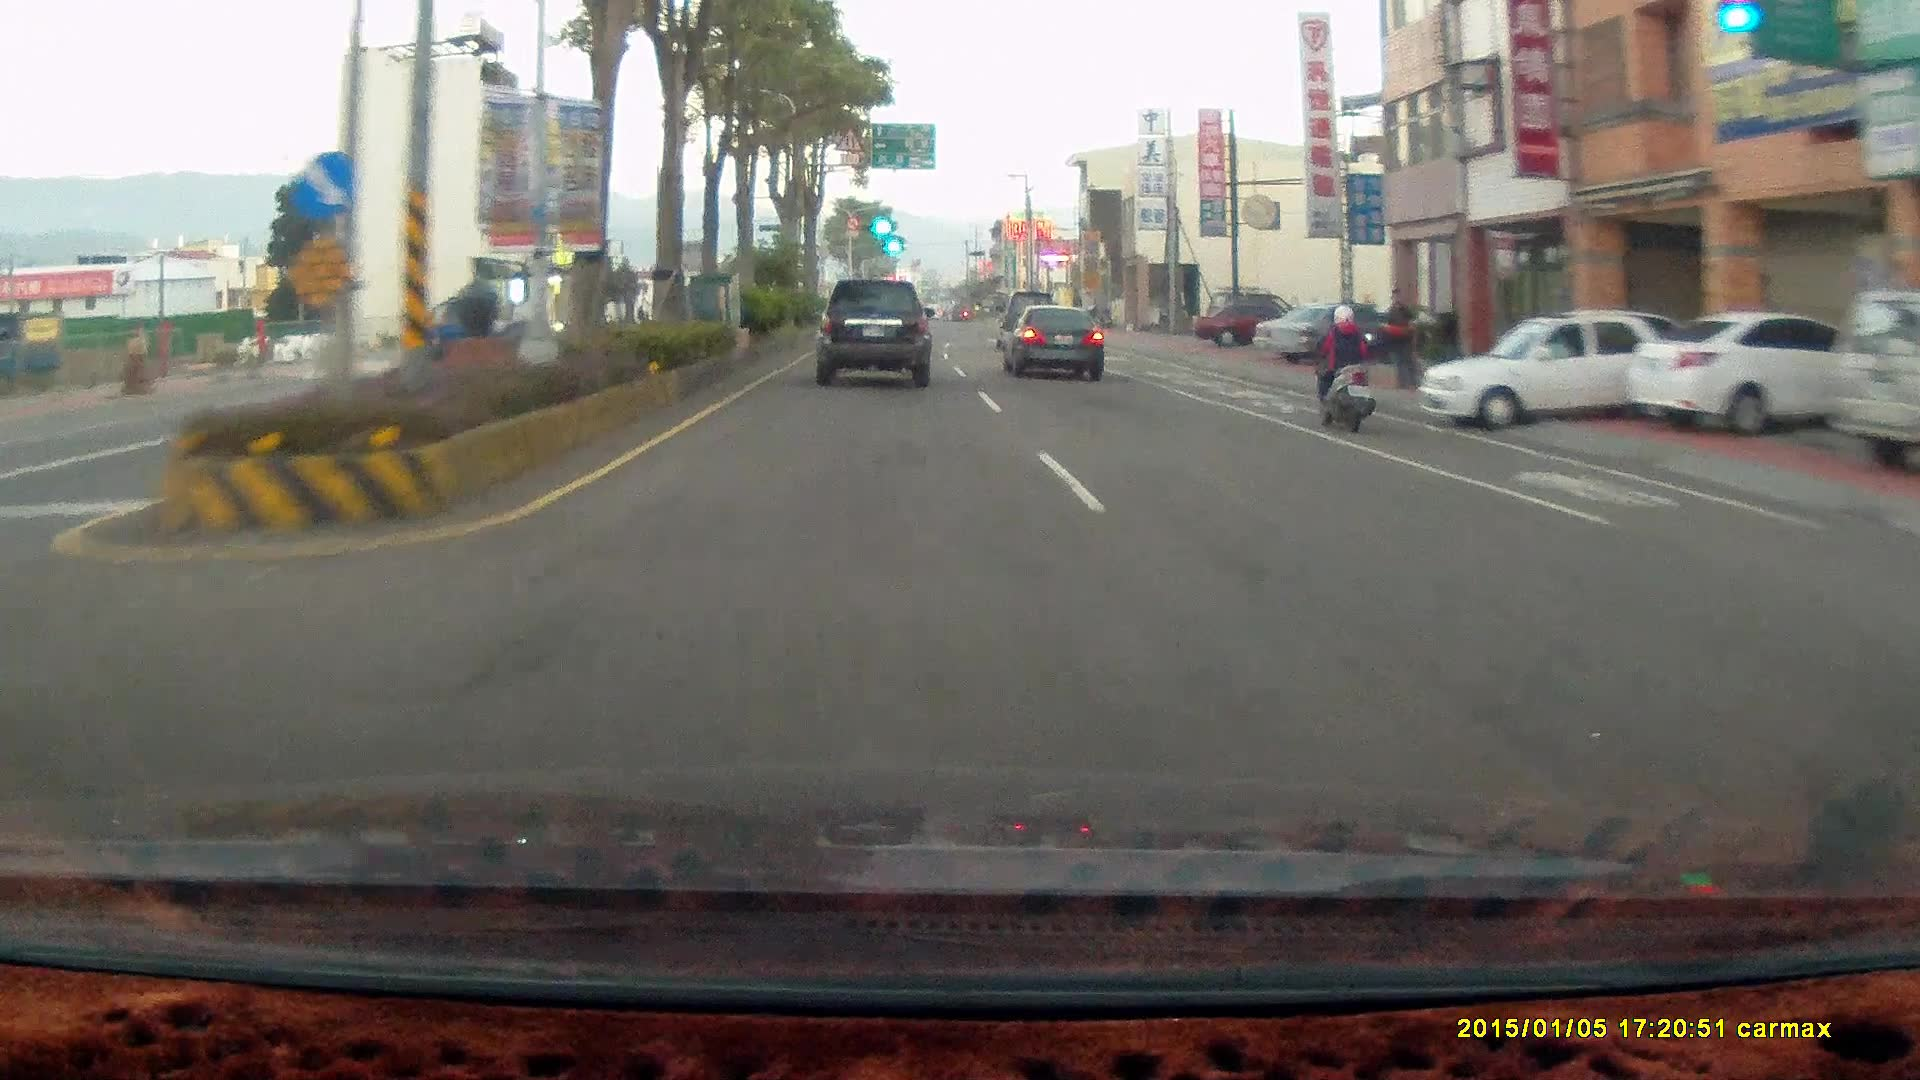pedestrian: (1377, 282, 1421, 387)
rider: (1301, 294, 1391, 441), (1309, 302, 1375, 432)
vehicle: (1626, 308, 1913, 437), (1418, 308, 1718, 423), (1419, 312, 1679, 428), (1625, 312, 1848, 437), (1824, 285, 1920, 467), (809, 275, 940, 391), (814, 280, 935, 390), (1253, 295, 1408, 361), (1253, 299, 1407, 363), (999, 303, 1103, 382), (1006, 303, 1107, 380), (1193, 302, 1312, 347)
